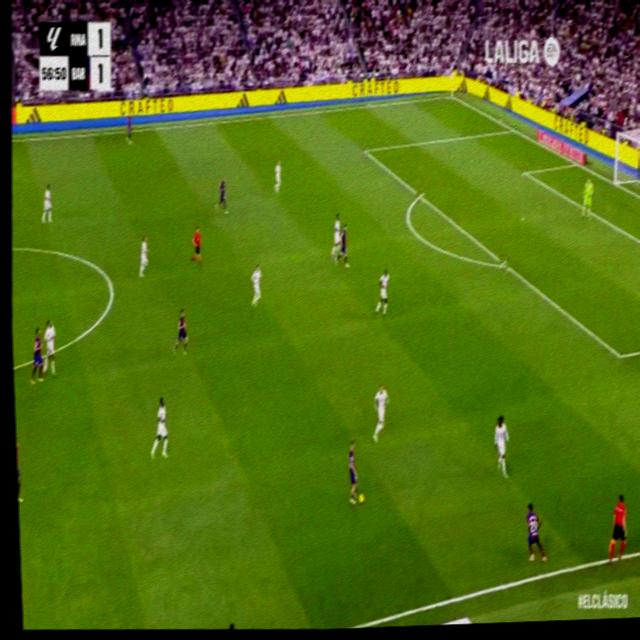bigarea_bottom_inner: (614, 342, 625, 367)
bigarea_top_inner: (361, 142, 368, 158)
bigarea_top_outter: (508, 122, 516, 134)
bottom_arc_area_intersection: (499, 254, 510, 274)
smallarea_top_inner: (520, 164, 529, 179)
top_arc_area_intersection: (415, 186, 425, 203)
